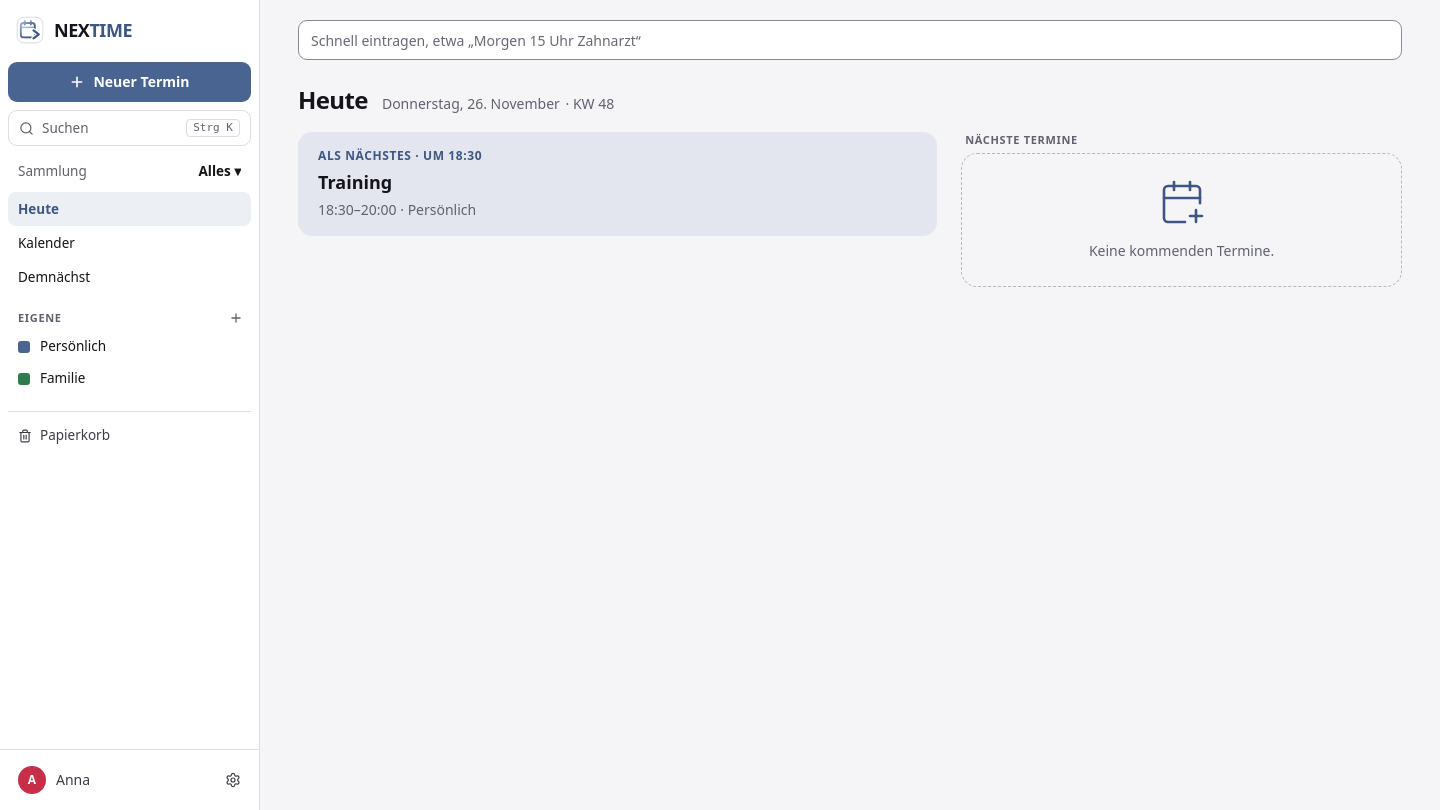
Test case: TIME-7 the row "Erinnerungen" of an event › TIME-7 AC-2 several fixed and free lead times, each removable with ×, saved as the member's own
Later steps or results of the test are not shown.
Click the button with test id "next-day-row" at x=400, y=156, box [298,132,937,236]
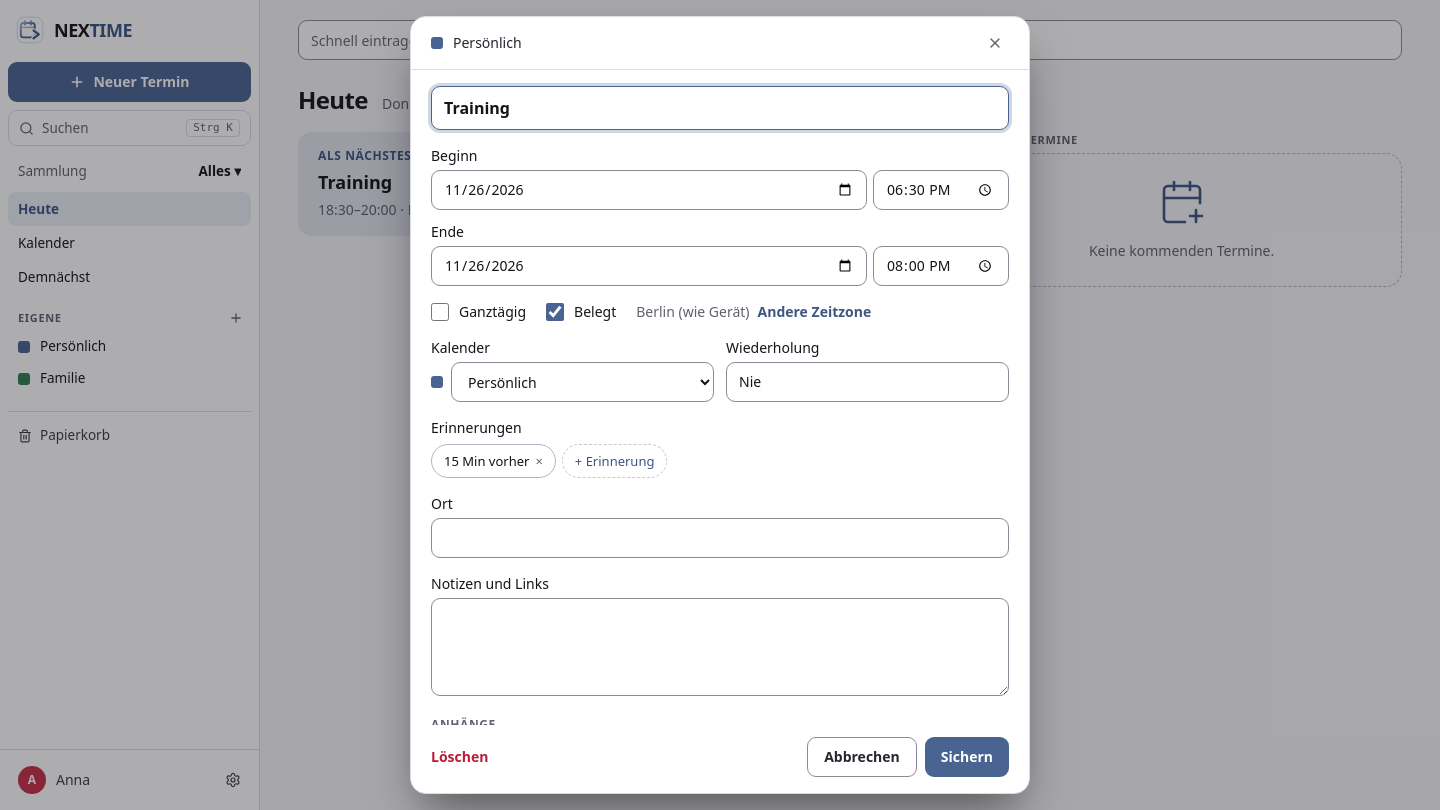
Click the button "+ Erinnerung" at x=615, y=461, box [562,444,667,478]
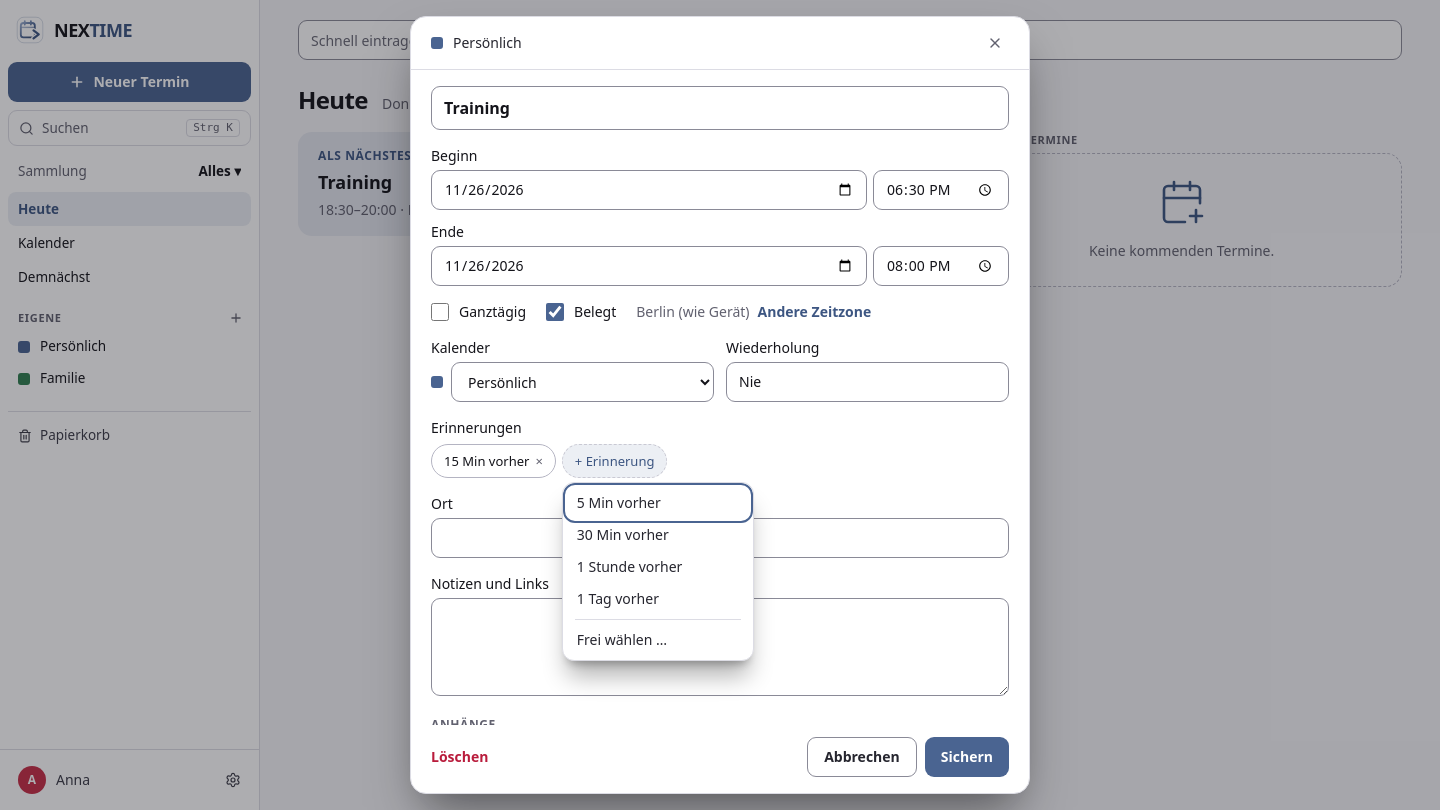
Expected: the text "Frei wählen …" is shown, [567,624,749,656]
